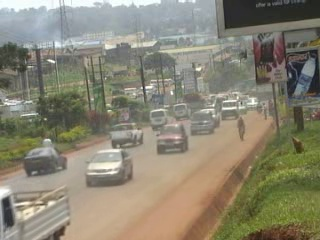Car: (83, 147, 134, 187), (22, 144, 72, 176), (153, 120, 190, 154), (188, 108, 215, 135), (220, 95, 238, 120), (245, 95, 258, 109), (238, 99, 246, 116)
Motorcycle: (255, 98, 263, 114)
